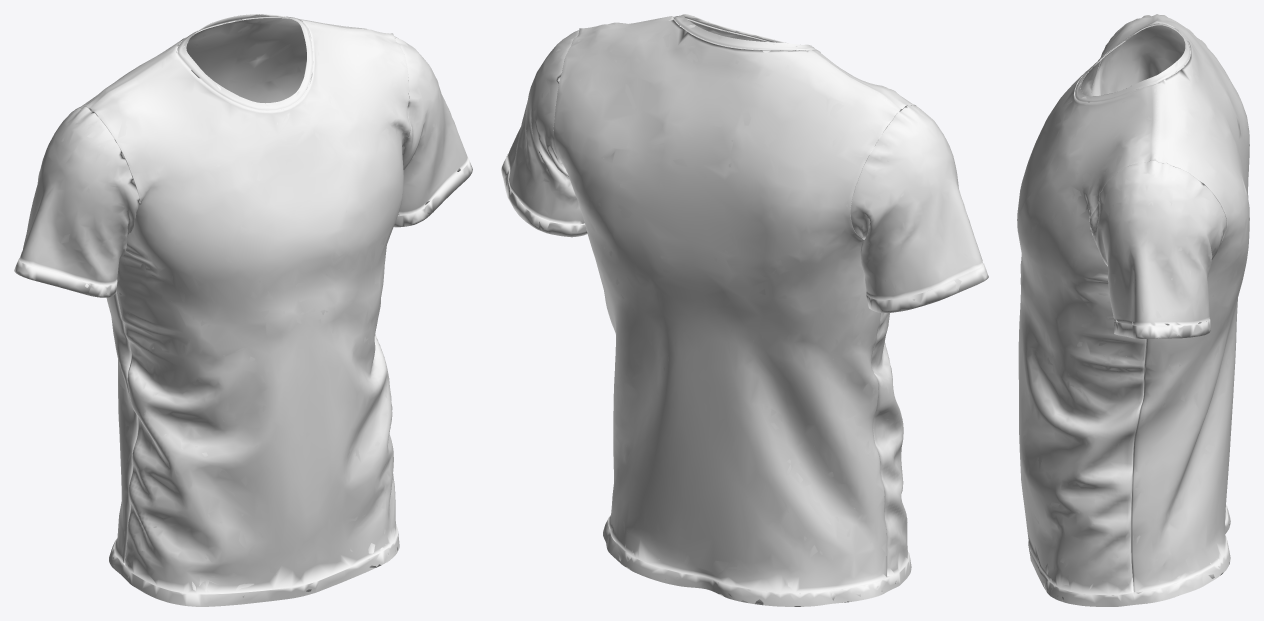
Rendered from tshirt.glb.
3 views of the same model, side by side, from view 1: azimuth 30°, elevation 25°; view 2: azimuth 150°, elevation 25°; view 3: azimuth 270°, elevation 25° (orthographic). The views are drawn at different scales.
Visible parts, largest first — view 1: T_Shirt_exterieur_ext_0_0, T_Shirt_int_int_0_1; view 2: T_Shirt_exterieur_ext_0_0, T_Shirt_int_int_0_1; view 3: T_Shirt_exterieur_ext_0_0, T_Shirt_int_int_0_1.
Boxes of the visible parts, x1,y1,x2,y2 form: T_Shirt_exterieur_ext_0_0: (14,14,472,606); T_Shirt_int_int_0_1: (28,14,461,598); T_Shirt_exterieur_ext_0_0: (501,14,988,606); T_Shirt_int_int_0_1: (503,14,976,606); T_Shirt_exterieur_ext_0_0: (1017,14,1249,606); T_Shirt_int_int_0_1: (1018,17,1249,606).
Size of the model in its own units: 0.6394 by 0.6992 by 0.2894.
2 materials, 2 textured.
